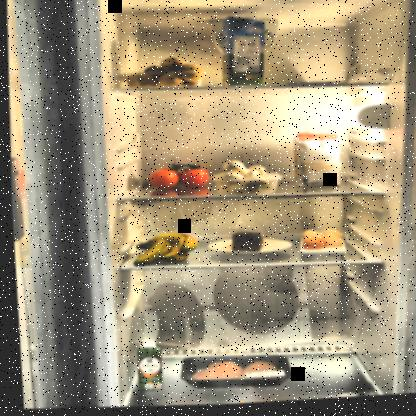banana: (129, 229, 199, 273)
cheese: (227, 233, 263, 258)
chicken: (171, 352, 293, 397)
chocolate: (279, 83, 332, 92)
eggs: (297, 231, 344, 260)
heavy_cream: (130, 342, 163, 394)
milk: (216, 15, 270, 92)
mushrooms: (208, 155, 280, 200)
potato: (116, 55, 208, 94)
tomato: (144, 156, 209, 195)
